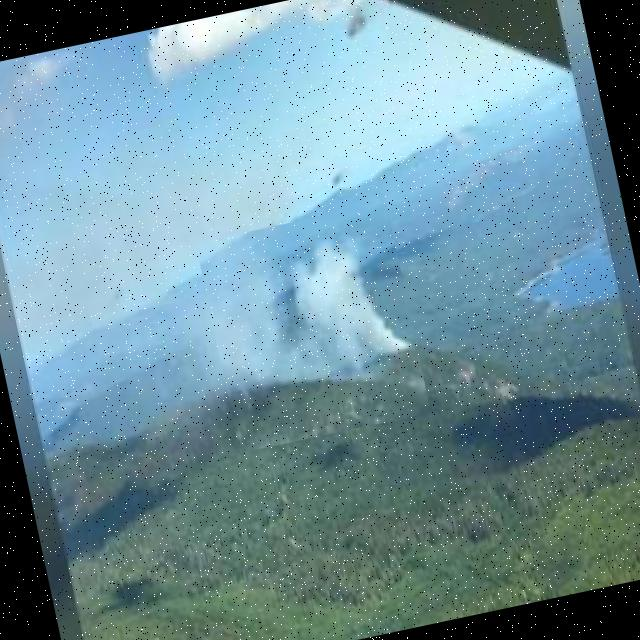fire: (196, 202, 430, 452)
